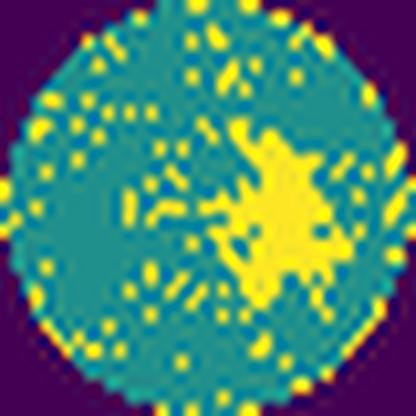Loc: (194, 111, 356, 312)
